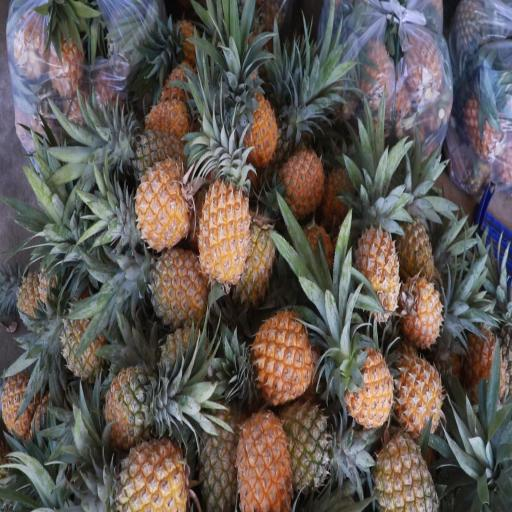------------------------------: (192, 369, 244, 511), (92, 360, 170, 446), (272, 396, 341, 492), (370, 422, 438, 512), (55, 284, 107, 380), (121, 122, 181, 182)
Pineapple - v8 v1: (109, 425, 190, 512), (248, 308, 314, 411), (233, 396, 292, 511), (198, 170, 251, 296), (131, 154, 194, 255), (141, 244, 211, 332), (352, 204, 401, 328), (336, 322, 394, 425), (388, 347, 445, 444), (230, 196, 277, 310), (272, 140, 326, 222), (392, 199, 438, 292), (394, 269, 445, 351), (239, 86, 282, 170)
